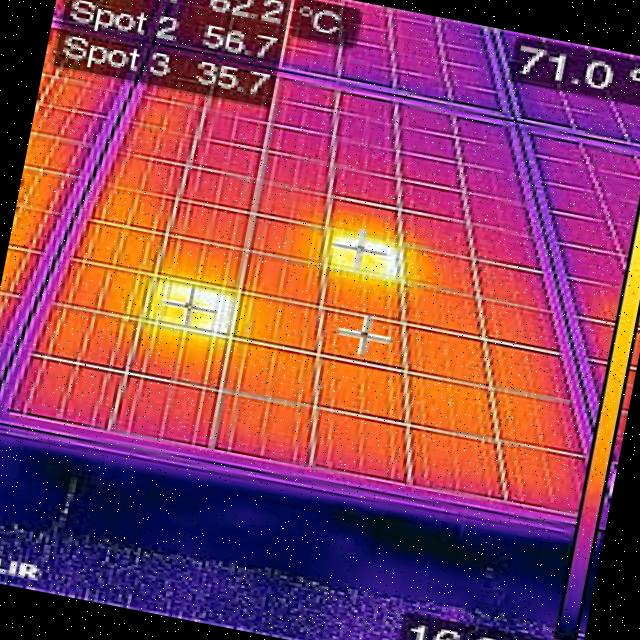Hotspot: (147, 277, 241, 342), (320, 227, 402, 283)
